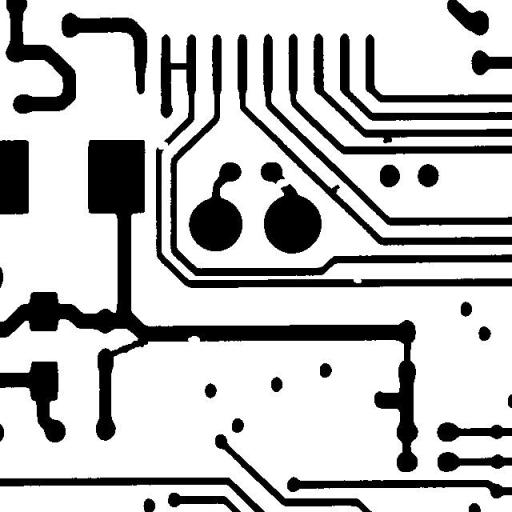mousebite: (180, 328, 207, 350), (346, 270, 368, 290)
open: (264, 171, 298, 197), (150, 134, 177, 156)
short: (99, 327, 155, 364), (396, 330, 419, 372), (156, 55, 196, 77)
spur: (322, 177, 347, 202), (375, 126, 400, 150)
